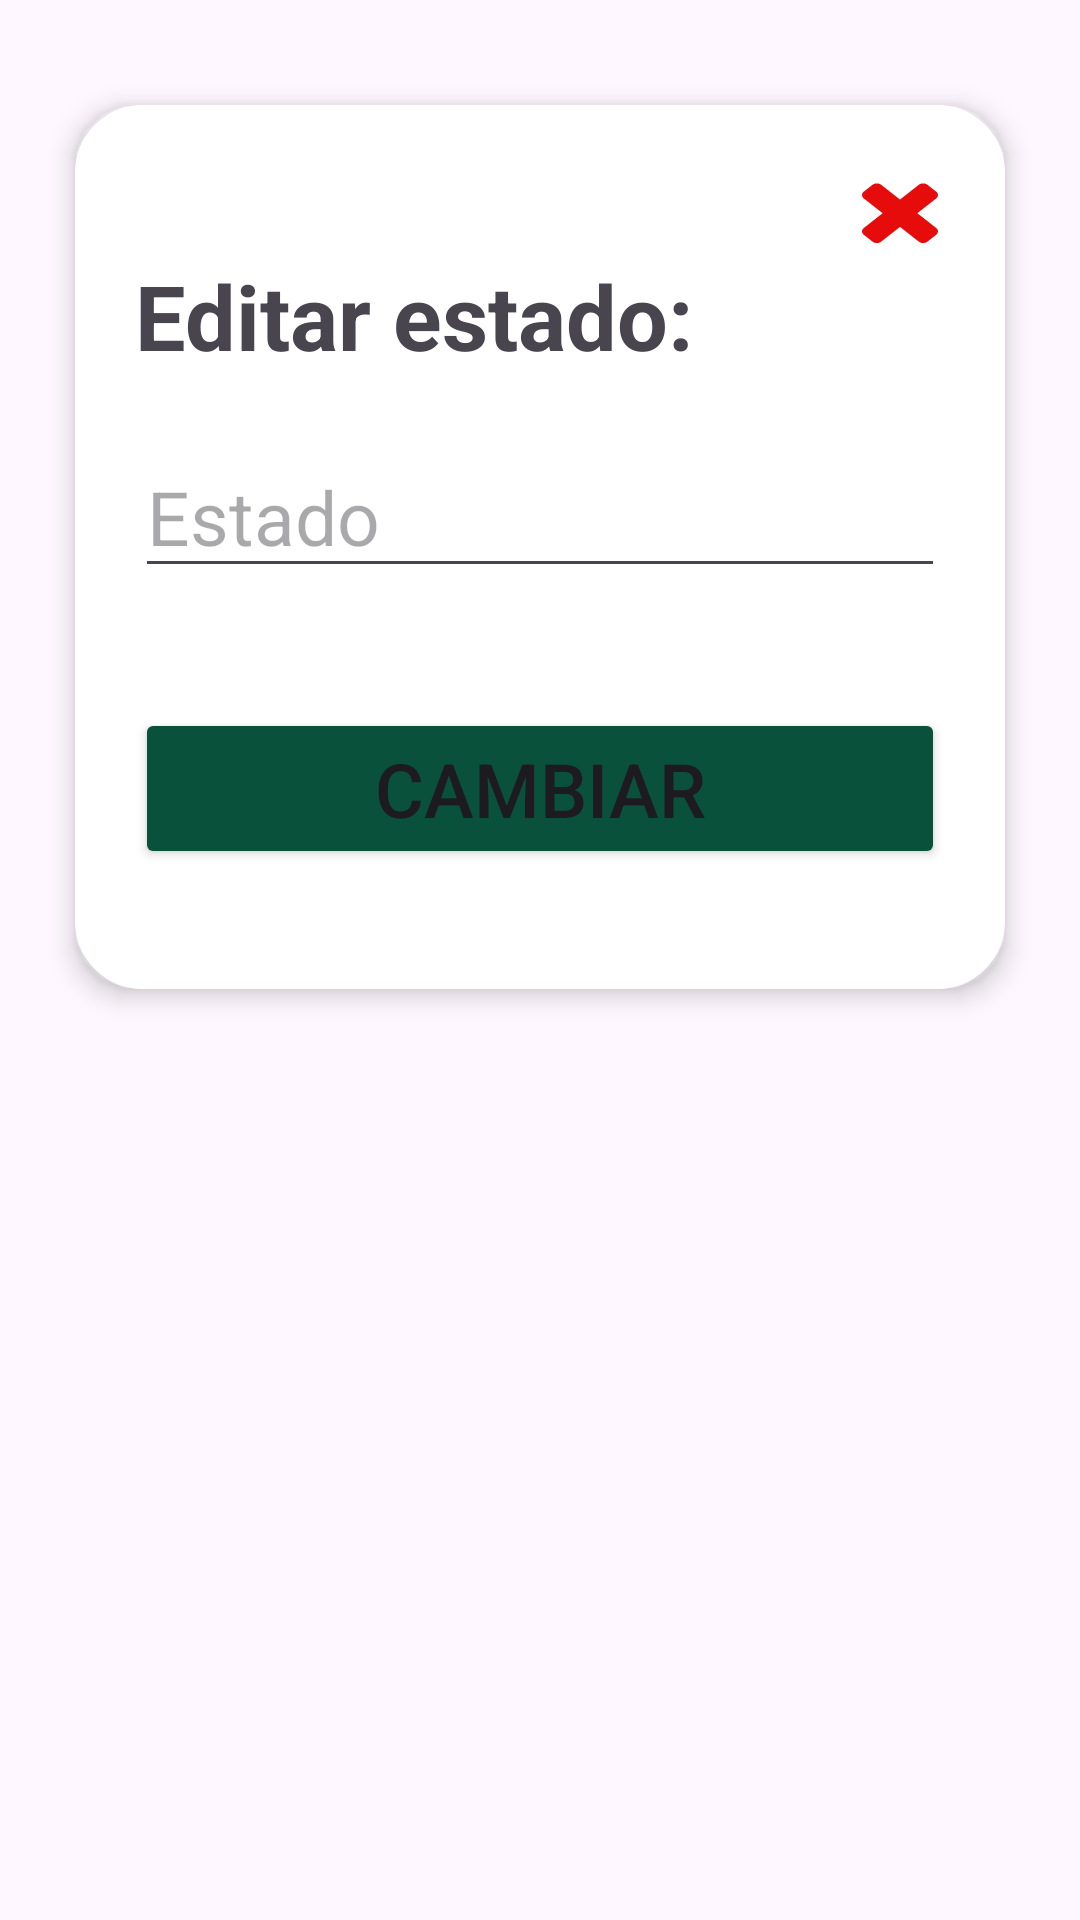

Screen size 1080 x 1920. Icon name, then its box in pixels as (x1, y1, x2, y2):
close: (862, 183, 938, 243)
